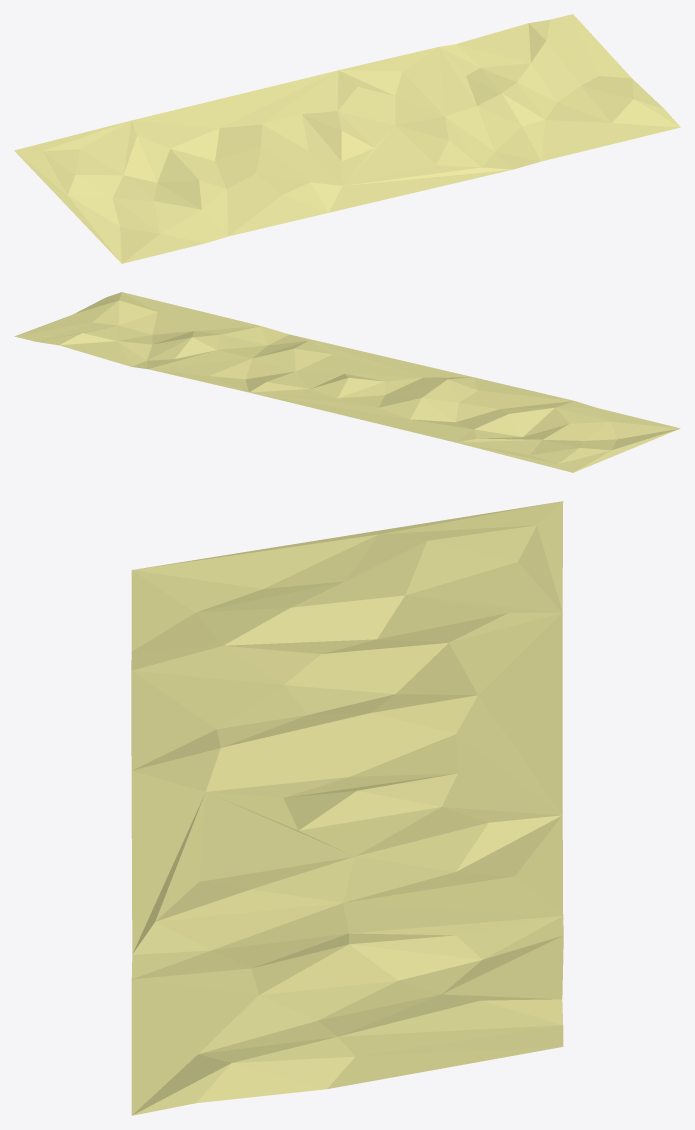
The model's file is Sands.fbx.
The picture shows the model from 3 angles, top to bottom: view 1: azimuth 30°, elevation 25°; view 2: azimuth 150°, elevation 25°; view 3: azimuth 270°, elevation 25°; orthographic projection. The views are drawn at different scales.
Parts seen in each view (by area): view 1: Объект_Плоскость; view 2: Объект_Плоскость; view 3: Объект_Плоскость.
Boxes of the visible parts, x1,y1,x2,y2 form: Объект_Плоскость: (14,14,680,263); Объект_Плоскость: (14,292,680,472); Объект_Плоскость: (131,501,563,1115).
Bounding box in the file's own units: 12900 × 833 × 4322.
